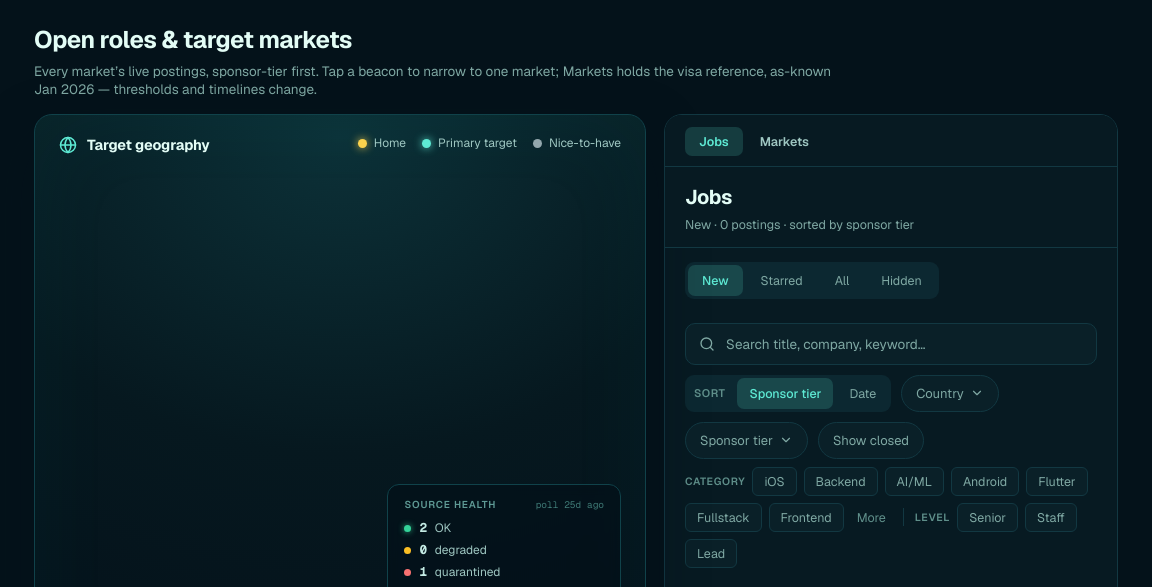
CountriesPage › switches between the two panels from the tabs
Expected: the heading "Jobs" is shown, [685, 184, 732, 210]
Click the button "Markets" at [784, 142], box [746, 127, 823, 156]
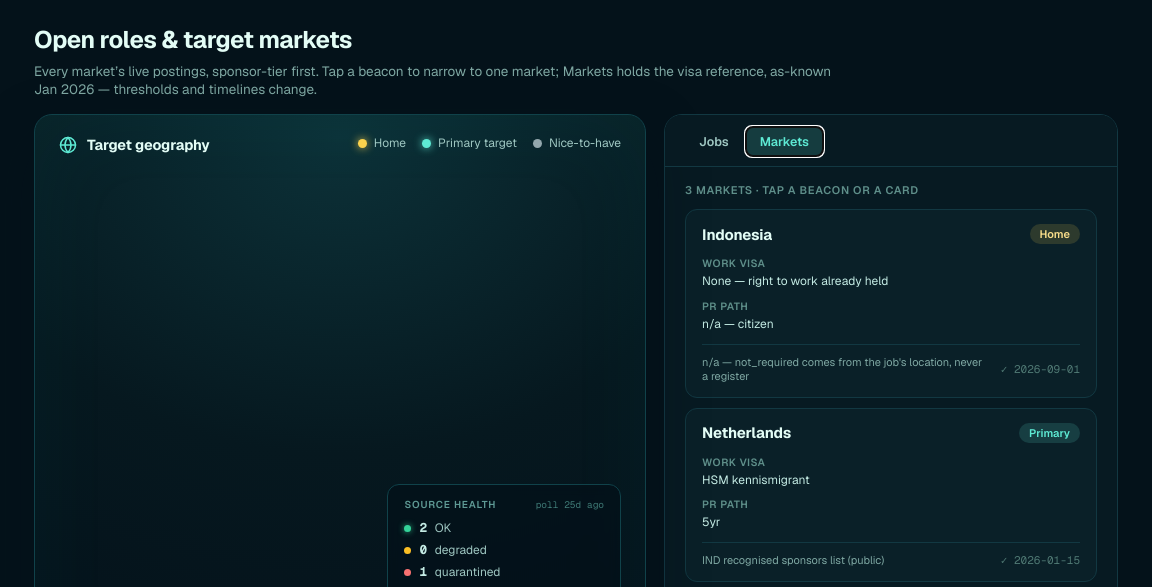
Click the button "Jobs" at [714, 142], box [685, 127, 743, 156]
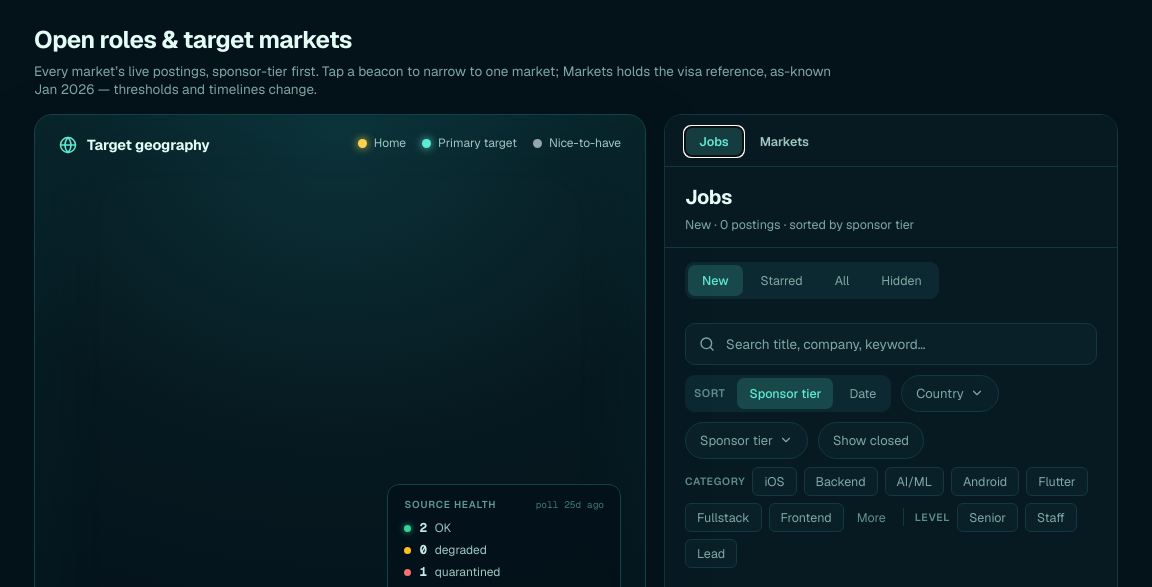
Expected: the heading "Jobs" is shown, [685, 184, 732, 210]
